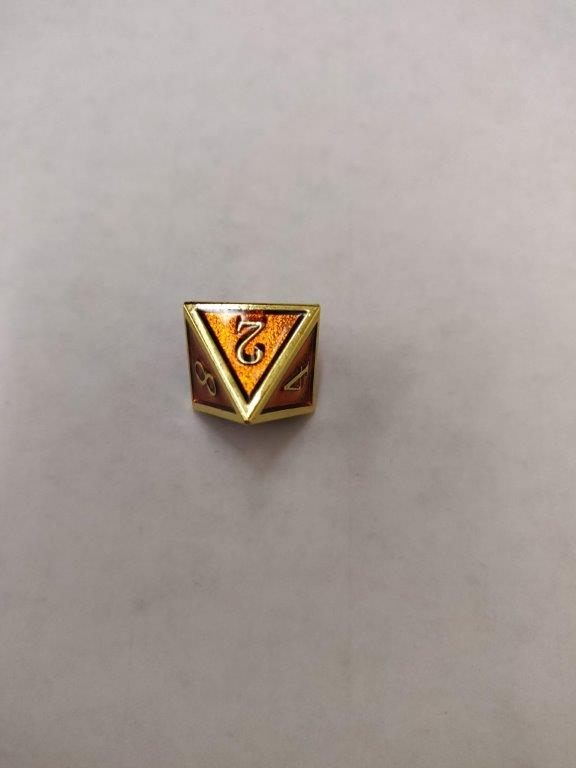d8-2: (183, 300, 320, 425)
